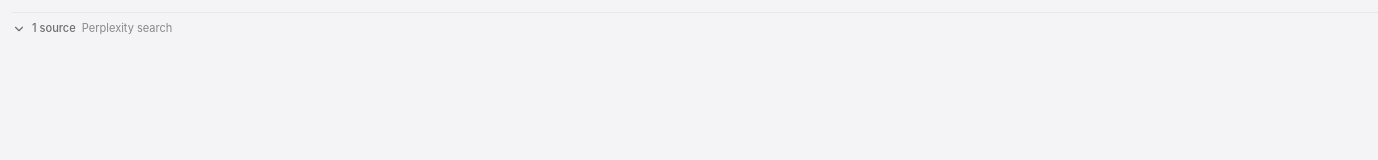
Test case: SourceCitationFooter › uses the Perplexity icon for Perplexity connector sources
Click the button "1 source Perplexity search": (92, 29) x1=12 y1=21 x2=172 y2=36
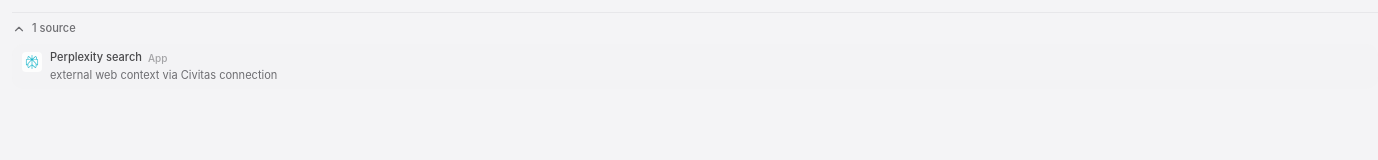
Expected: the picture is shown, x1=25 y1=56 x2=39 y2=70
